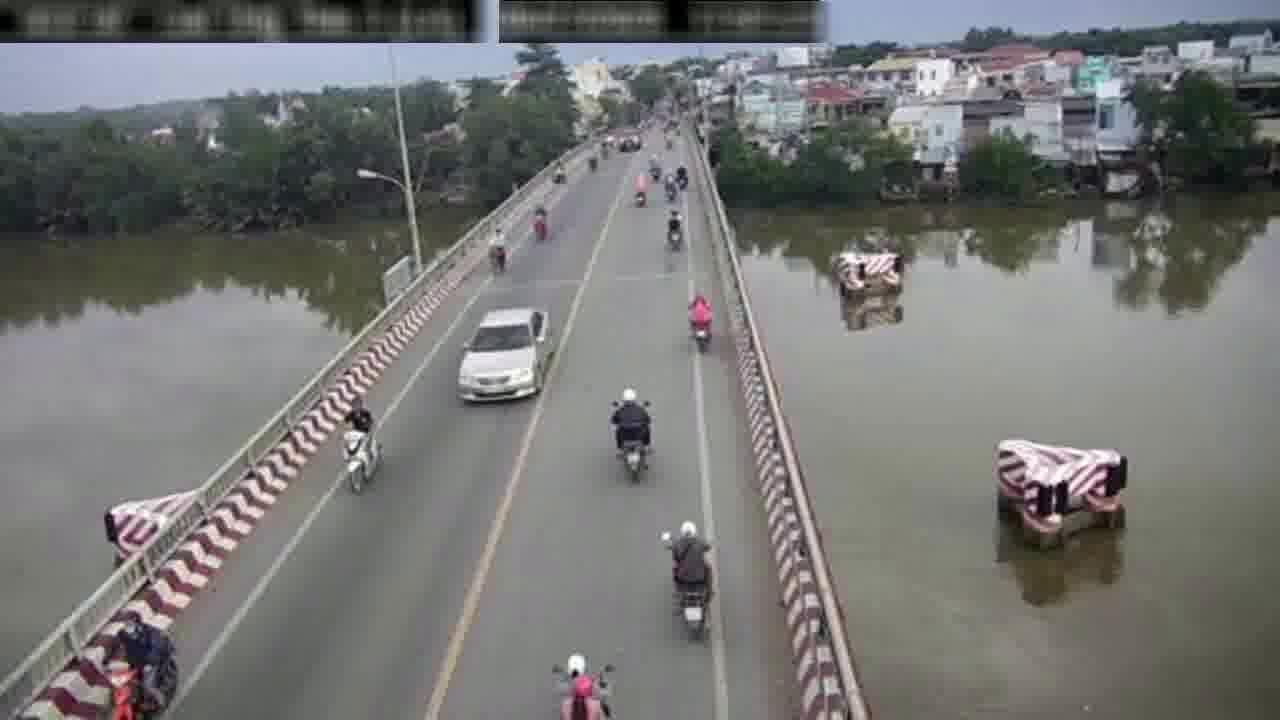container: (450, 300, 551, 402)
motorbike: (95, 601, 175, 720), (662, 503, 717, 635), (335, 394, 383, 496), (611, 382, 657, 487), (686, 285, 715, 353), (488, 224, 508, 274), (666, 206, 683, 251), (632, 168, 645, 211), (533, 204, 546, 243), (664, 168, 678, 204)
